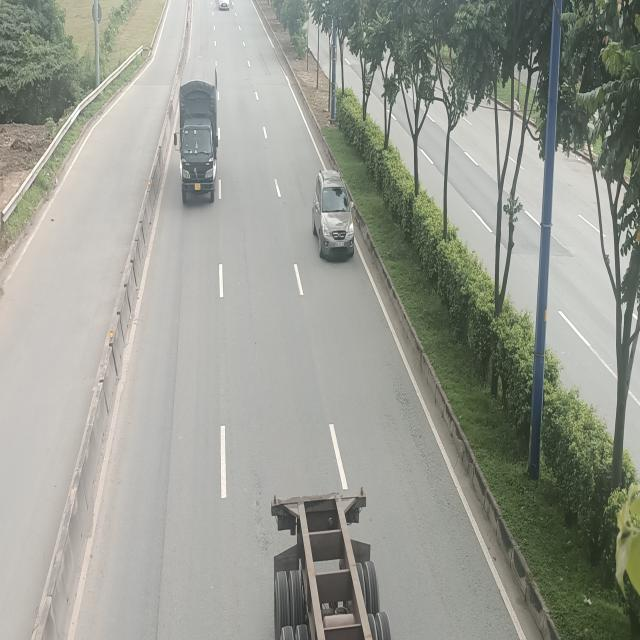car: (315, 170, 358, 261)
container: (264, 486, 399, 638)
truck: (177, 75, 220, 205)
